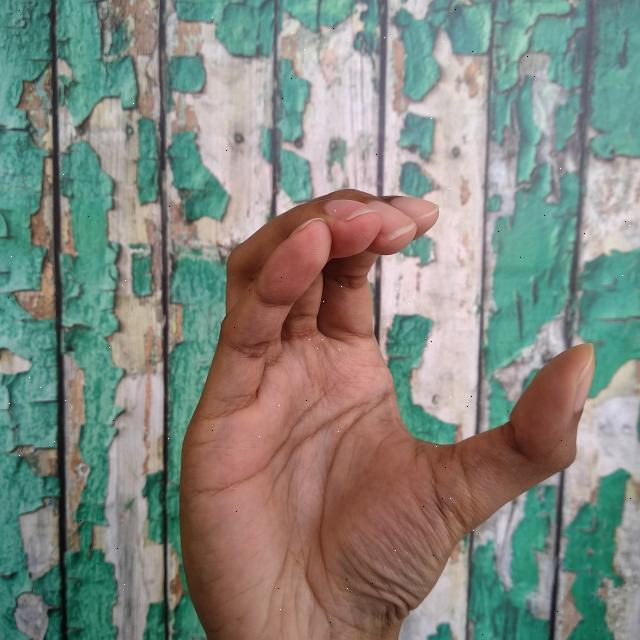C: (182, 185, 599, 640)
